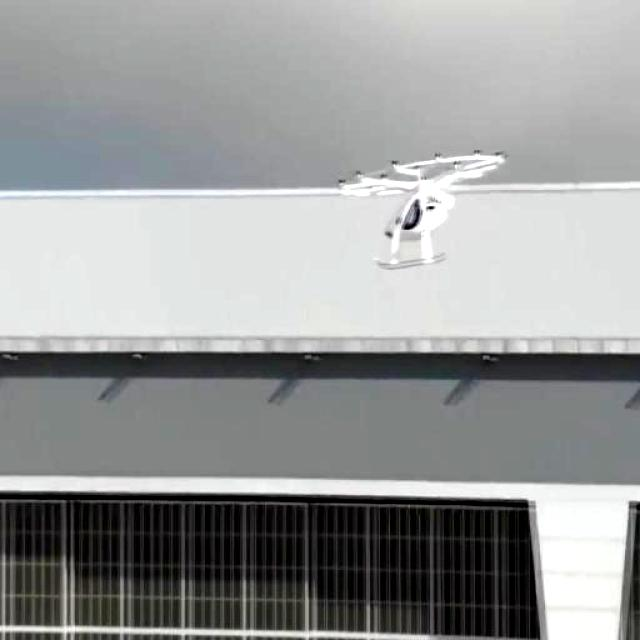drone: (339, 140, 506, 285)
